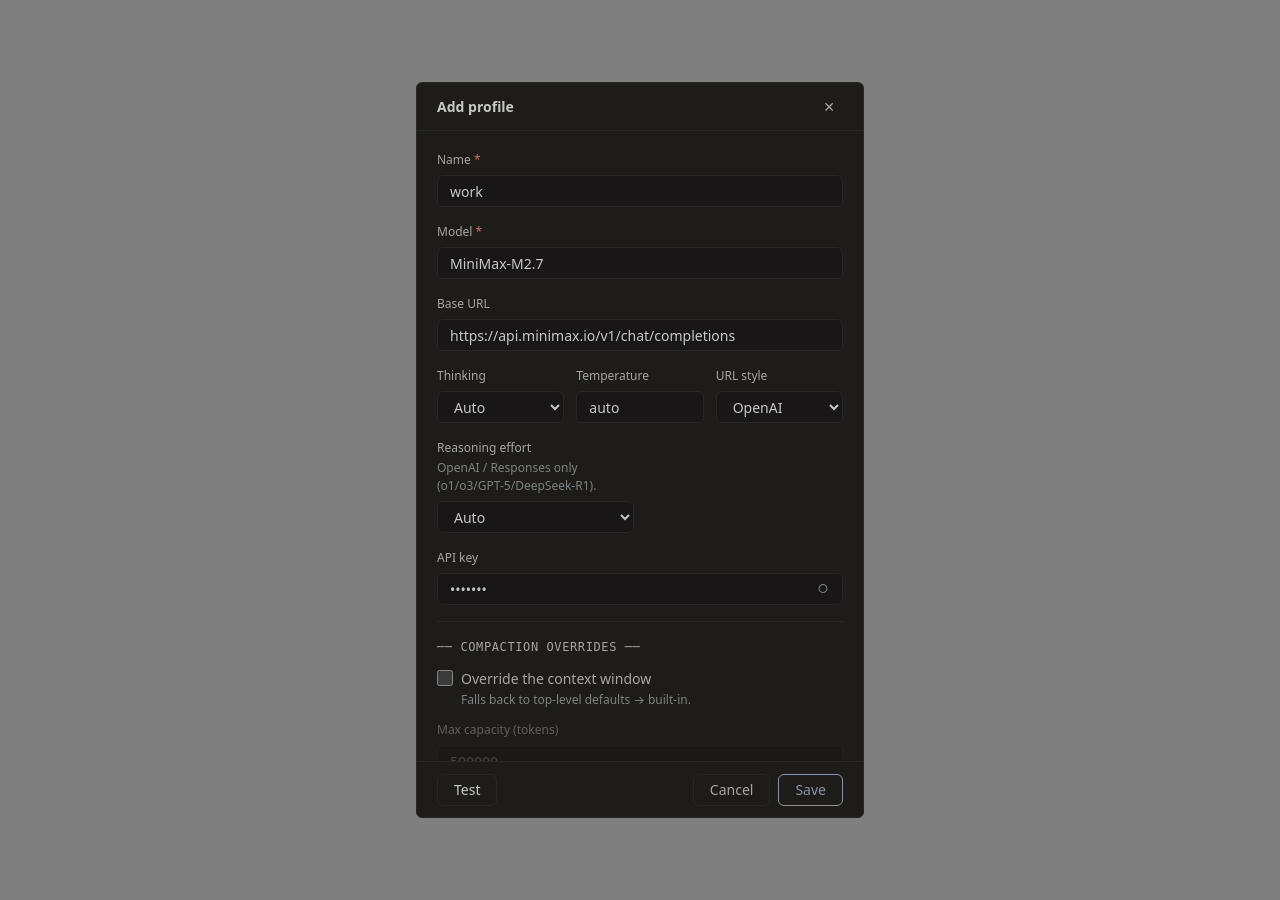
LlmConfigModal — Test LLM button › renders the red error panel with error + details on failure
The image size is (1280, 900).
Click the button with test id "llm-test-btn" at (467, 790), box x1=437 y1=774 x2=498 y2=806
(page scrolled)
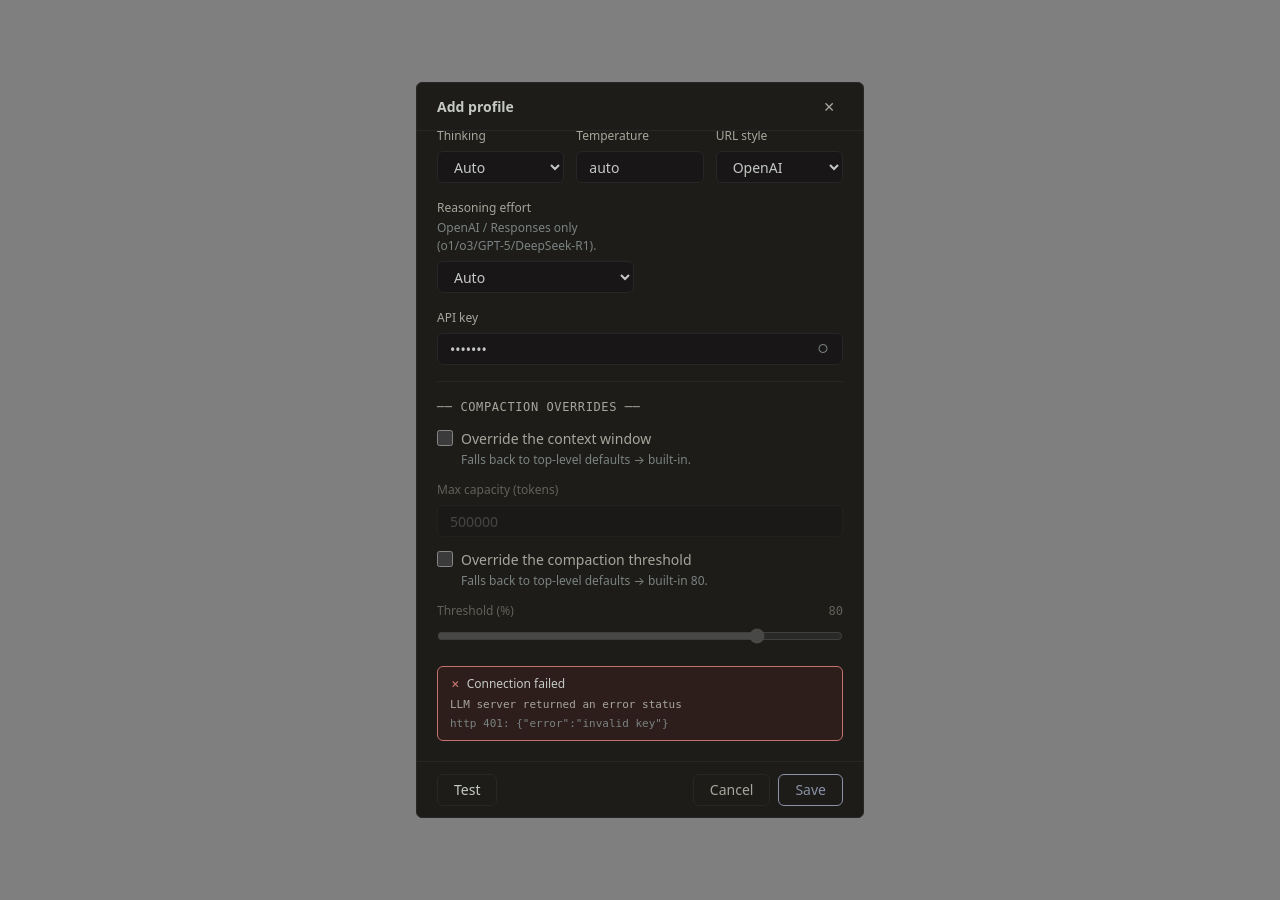
Expected: the element with test id "llm-test-result" is shown, x1=437 y1=666 x2=843 y2=741
Expected: the element with test id "llm-test-result" shows "Connection failed", x1=467 y1=675 x2=565 y2=692
Expected: the text with test id "llm-test-error" reads "LLM server returned an error status", x1=450 y1=698 x2=682 y2=711
